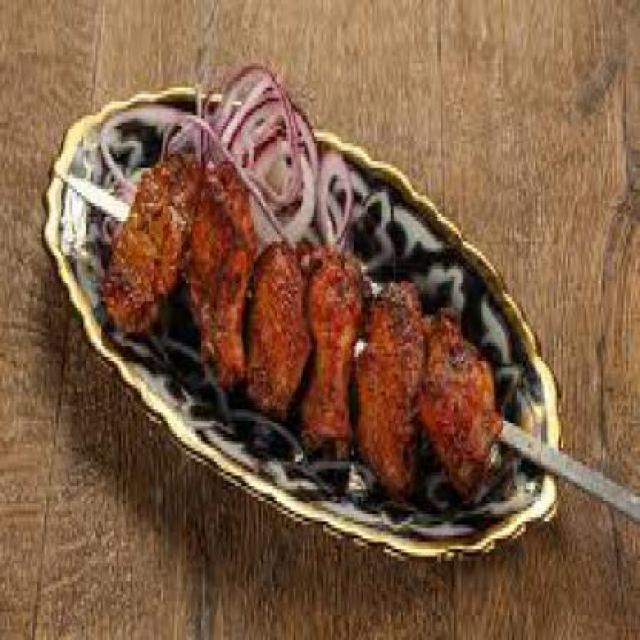chicken wings: (114, 147, 509, 501)
onion rings: (88, 59, 358, 241)
